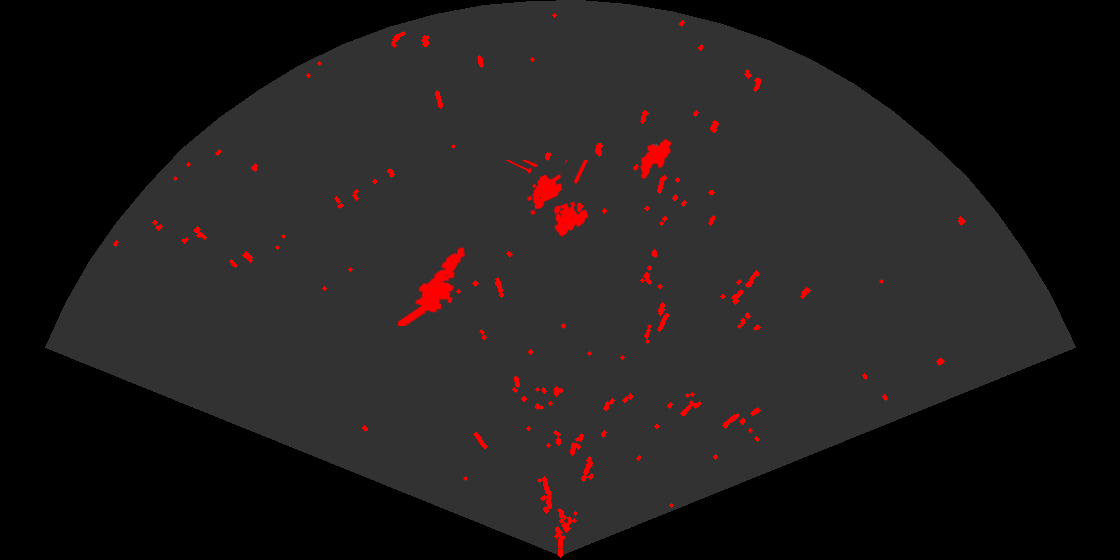AUV: (639, 137, 673, 180)
cage: (505, 160, 590, 237)
frogman: (398, 245, 467, 326)
